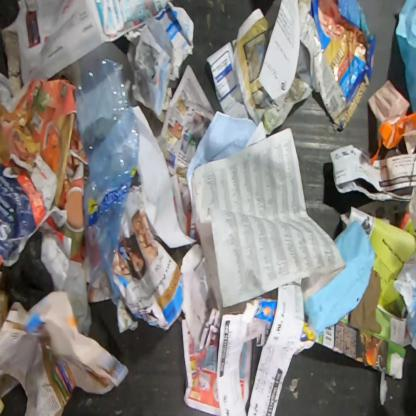cardboard: (297, 0, 377, 130), (299, 304, 407, 379)
rigid_plastic: (73, 57, 141, 305)
soft_plastic: (367, 79, 415, 166)
